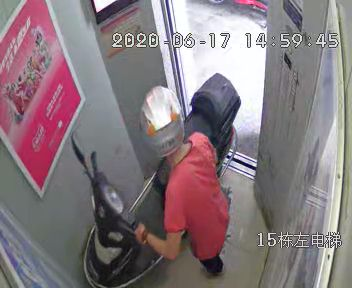Electric-bicycle: (71, 74, 237, 283)
